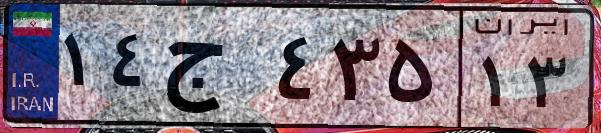1: (57, 26, 110, 100), (475, 38, 525, 113)
3: (330, 28, 385, 110), (525, 38, 570, 115)
4: (270, 28, 330, 110), (110, 28, 158, 98)
5: (385, 28, 445, 110)
ج: (158, 20, 270, 120)
